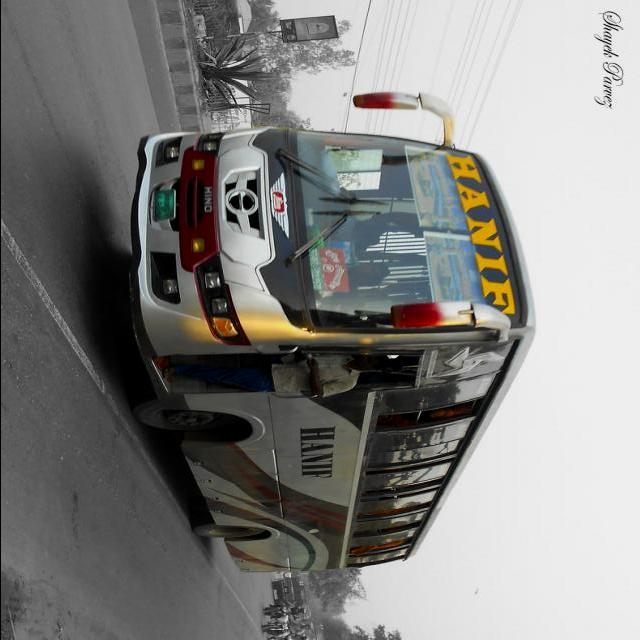bus: (129, 93, 538, 576)
